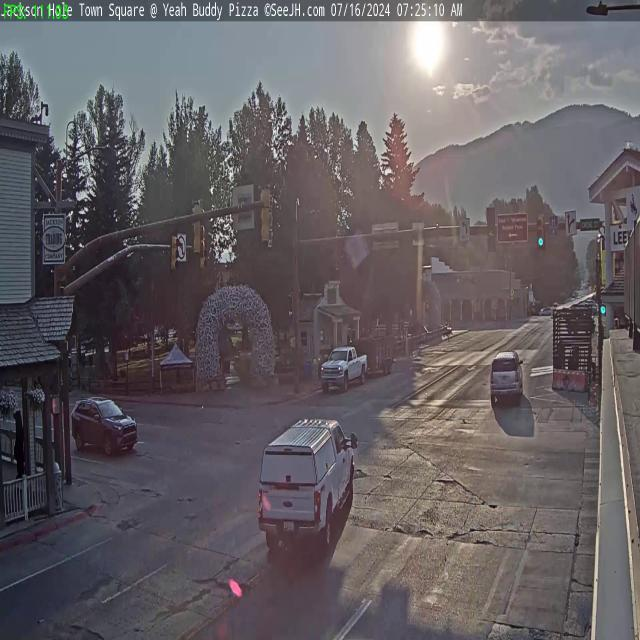pickup: (318, 342, 367, 399)
suv: (70, 393, 138, 458), (489, 350, 522, 406)
traffic light: (260, 185, 273, 245), (190, 199, 203, 254), (487, 208, 496, 254), (169, 233, 178, 272), (536, 215, 545, 248)
truck: (256, 414, 360, 566)
